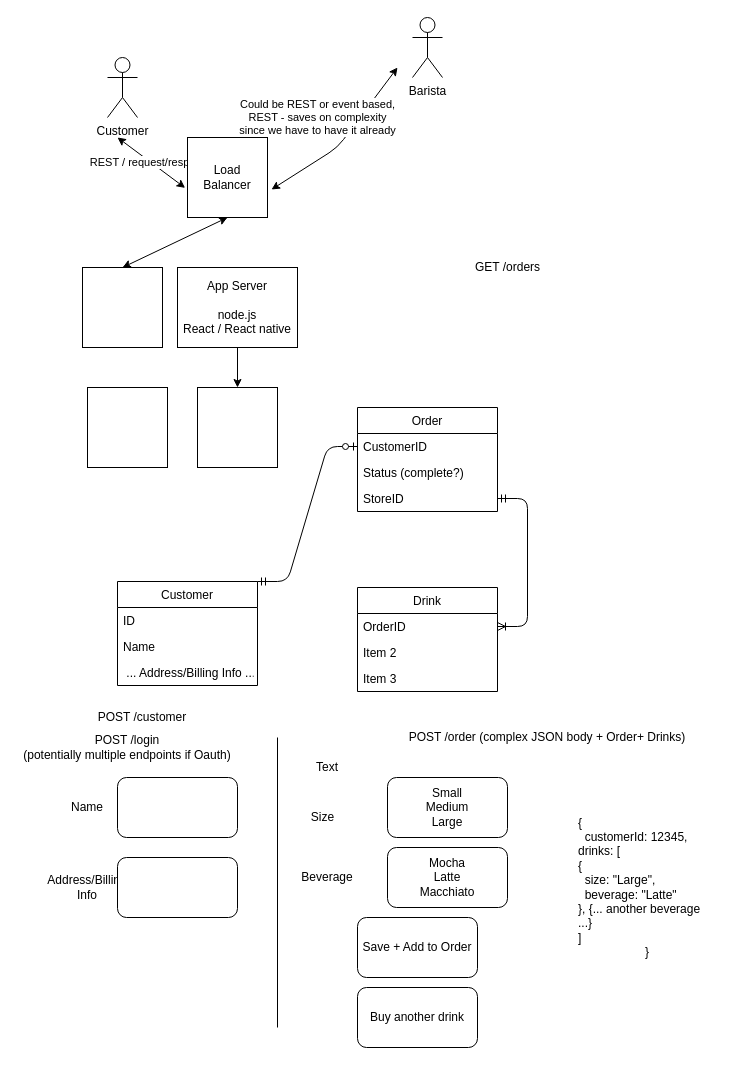
Image size: 734x1065. Some labels were removed from this diagram. The centre of each missing label's shape, as x and y in pixels:
"Cloud App Server" goes at point 122,307.
"Cloud DB" goes at point 127,427.
"Database MySQL / Postgres" goes at point 237,427.
